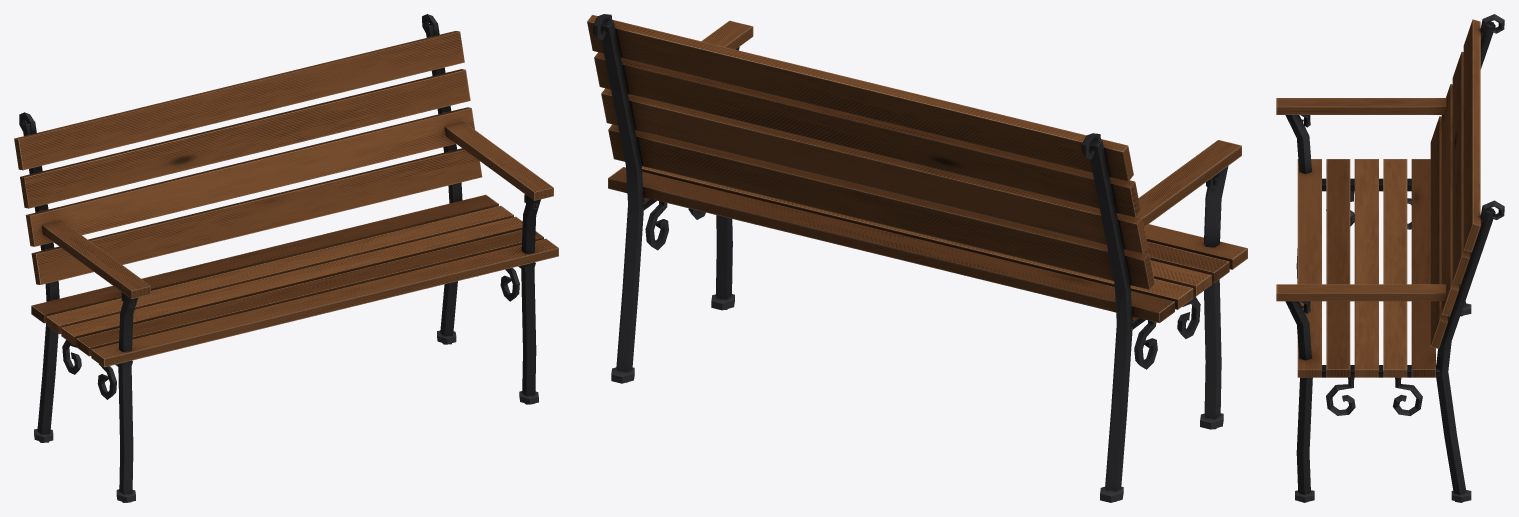
File: Bench_Garden_01.fbx
3 views of the same model, side by side, from view 1: azimuth 30°, elevation 25°; view 2: azimuth 150°, elevation 25°; view 3: azimuth 270°, elevation 25° (orthographic). The views are drawn at different scales.
Visible parts, largest first — view 1: Bench_Garden_01; view 2: Bench_Garden_01; view 3: Bench_Garden_01.
Part boxes in pixels (<box>): Bench_Garden_01: <box>14,14,558,502</box>; Bench_Garden_01: <box>587,14,1247,502</box>; Bench_Garden_01: <box>1276,14,1504,502</box>.
Bounding box in the file's own units: 1.4 × 0.9294 × 0.641.
Materials: 1 (1 with a texture image).
